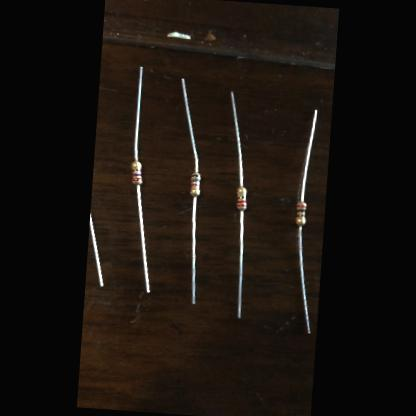resistor: (130, 161, 144, 185), (236, 186, 249, 211), (190, 172, 202, 196), (295, 202, 307, 226)
wire: (130, 184, 158, 292), (174, 79, 204, 172), (292, 226, 318, 332), (223, 92, 250, 186), (232, 211, 248, 318), (186, 198, 202, 304), (300, 109, 318, 203), (86, 212, 108, 286), (134, 67, 146, 161)
